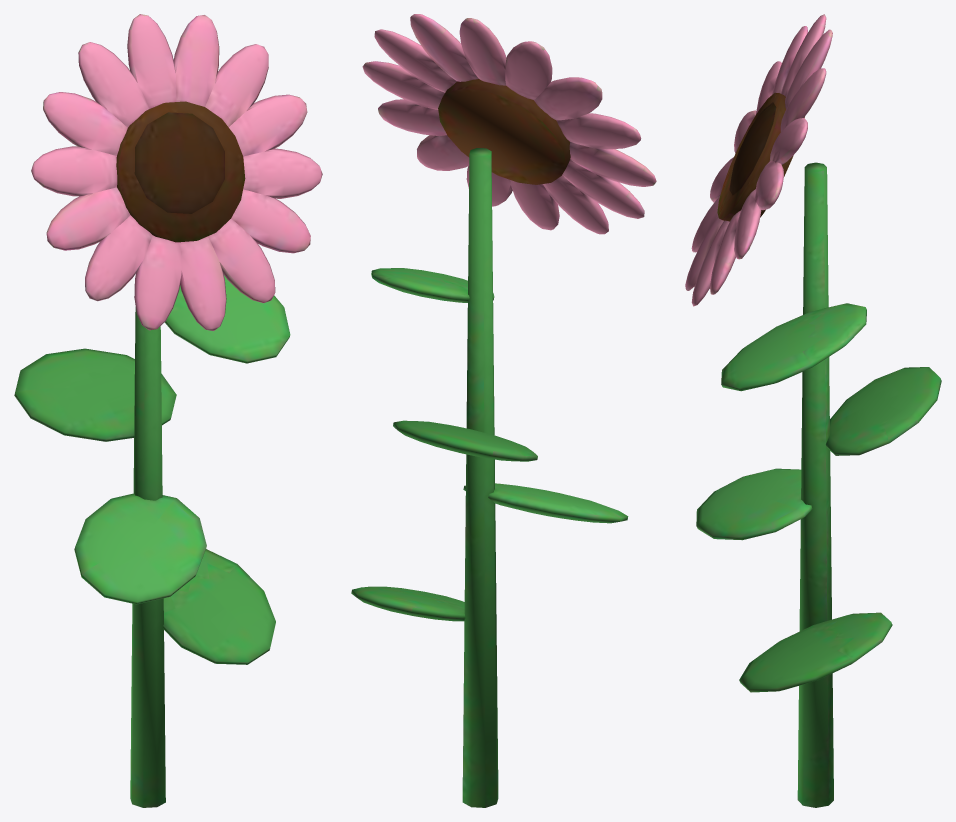
Rendered from crop_lotus.glb.
3 views of the same model, side by side, from view 1: azimuth 30°, elevation 25°; view 2: azimuth 150°, elevation 25°; view 3: azimuth 270°, elevation 25° (orthographic). The views are drawn at different scales.
Visible parts, largest first — view 1: crop_lotus, fruit; view 2: crop_lotus, fruit; view 3: crop_lotus, fruit.
Boxes of the visible parts, box(x1,y1,x2,y2) form: crop_lotus: box(14, 101, 290, 807); fruit: box(31, 14, 322, 331); crop_lotus: box(351, 79, 628, 807); fruit: box(362, 14, 656, 234); crop_lotus: box(696, 92, 941, 807); fruit: box(685, 14, 832, 306).
Size of the model in its own units: 0.2242 by 0.6079 by 0.1837.
Materials: 1 (1 with a texture image).
